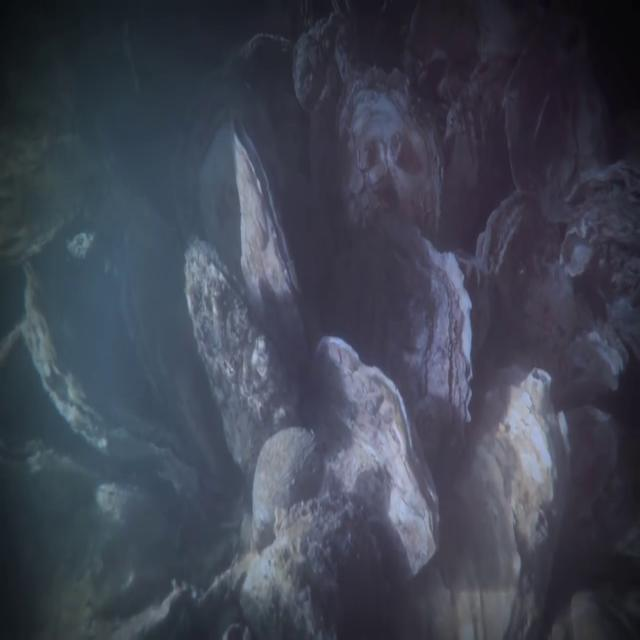Oyster-Closed: (17, 263, 203, 498), (305, 332, 447, 593), (334, 219, 477, 478), (107, 204, 235, 488), (182, 235, 300, 481), (225, 118, 313, 406), (478, 188, 546, 282)
Oyster-Indeterminate: (420, 363, 572, 639), (334, 67, 449, 238)
